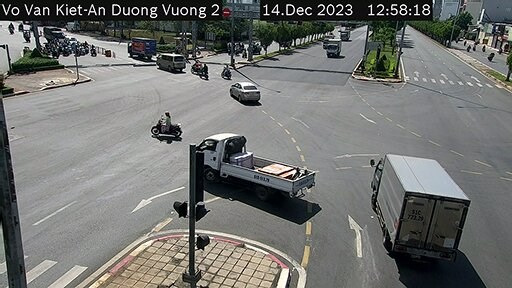car: (230, 79, 259, 103), (158, 51, 182, 74)
motorbike: (150, 108, 186, 147)
truck: (188, 119, 316, 200), (370, 145, 458, 250), (125, 34, 157, 61), (323, 39, 343, 57)
